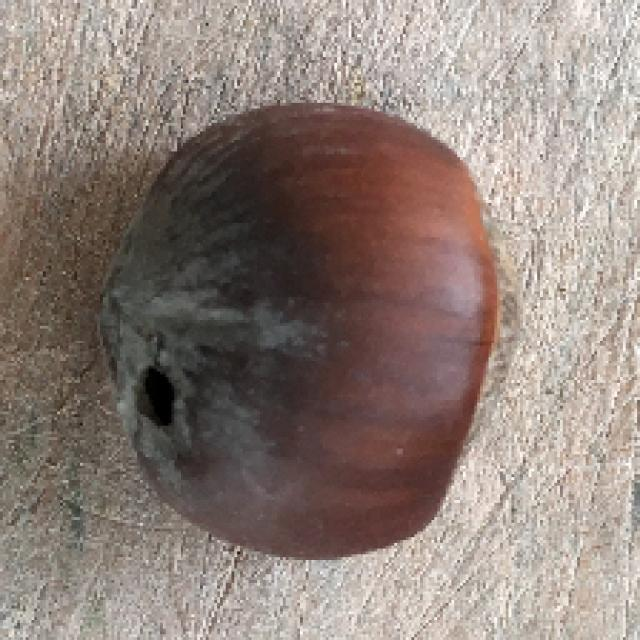damagedHazelnut: (95, 97, 518, 552)
